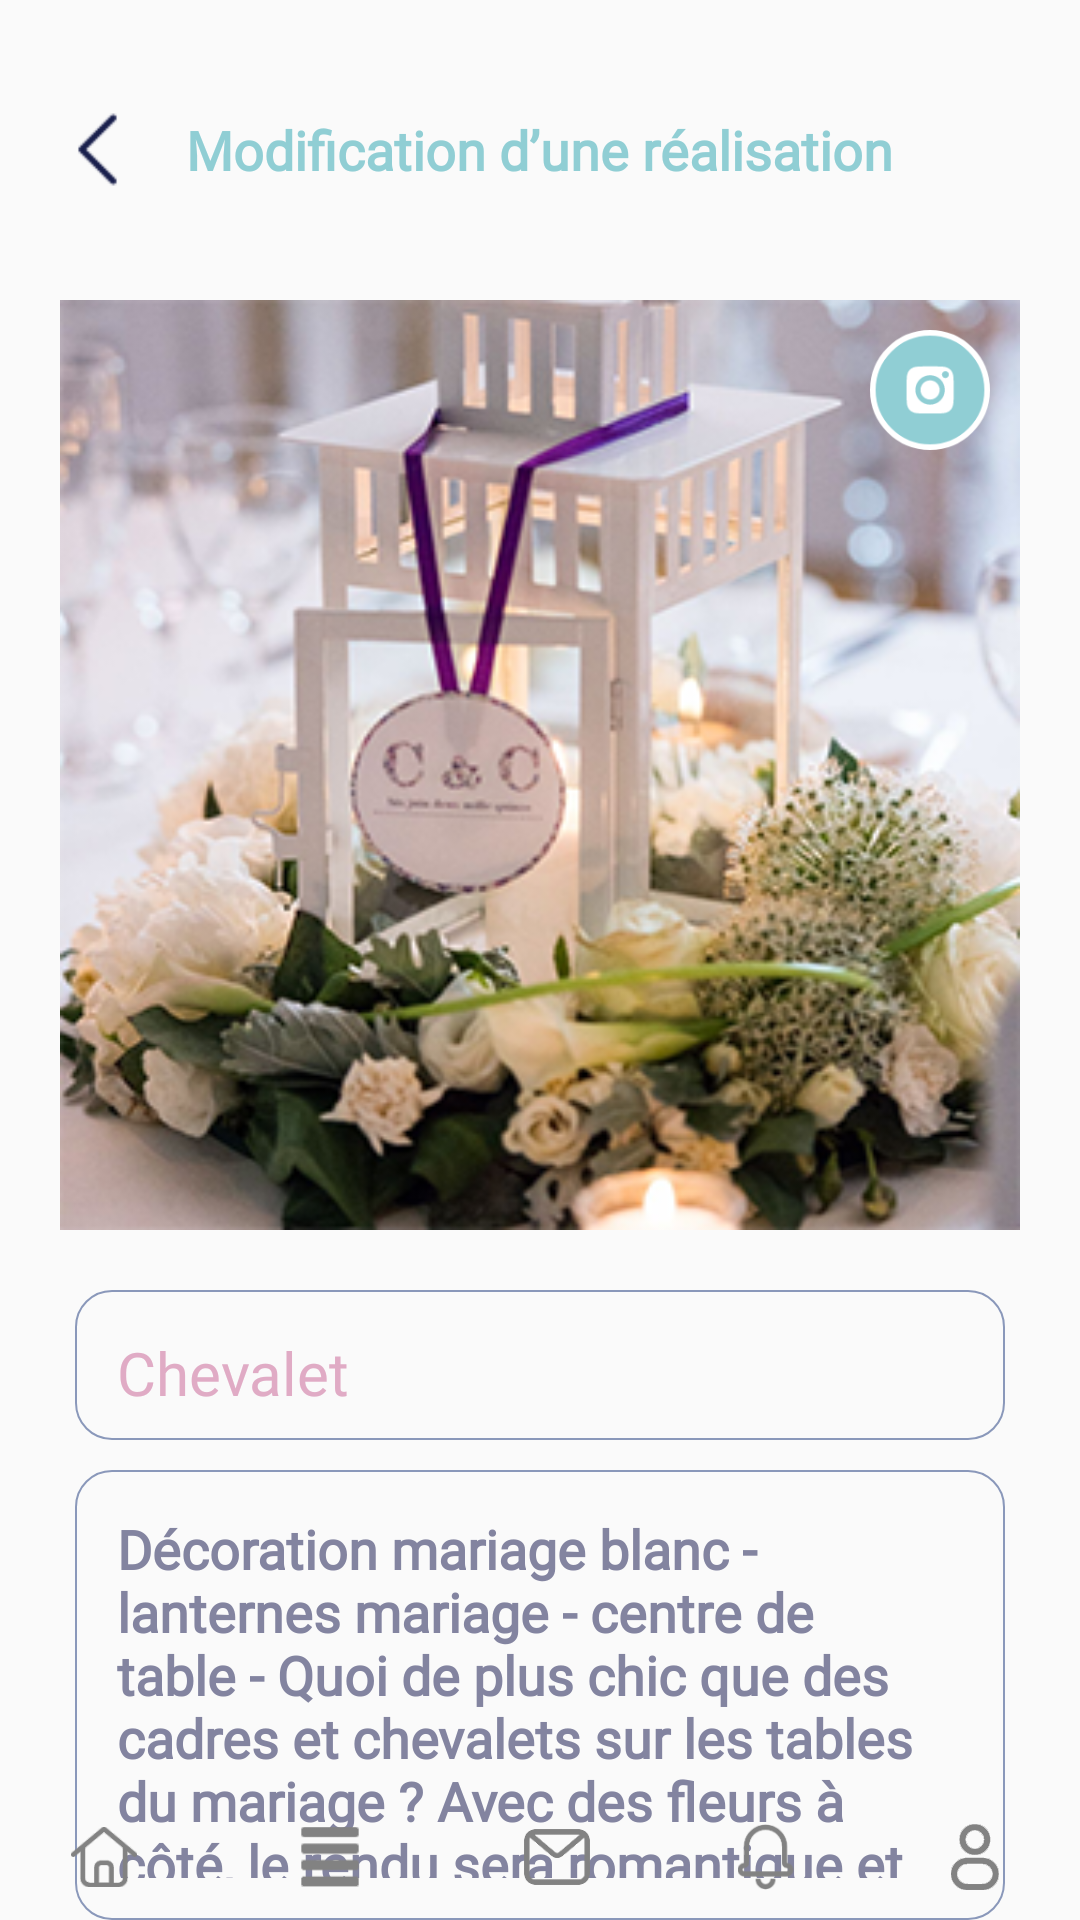

Icon bounding boxes for this 1080px x 1920px phone screenshot, format (left=x1, top=y1, right=x2, bottom=y2):
blackback: (left=78, top=113, right=117, bottom=186)
homegrey: (left=71, top=1812, right=149, bottom=1902)
msggrey: (left=512, top=1812, right=602, bottom=1885)
notigrey: (left=722, top=1824, right=811, bottom=1890)
usergrey: (left=951, top=1824, right=999, bottom=1890)
